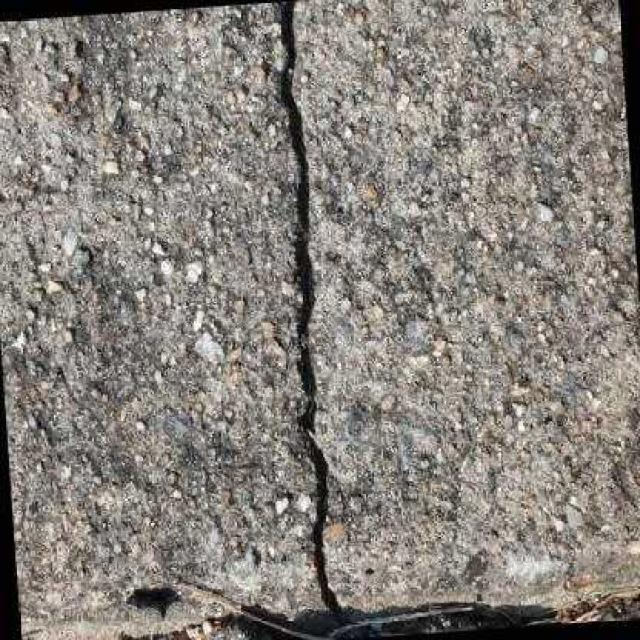D00: (279, 1, 341, 619)
